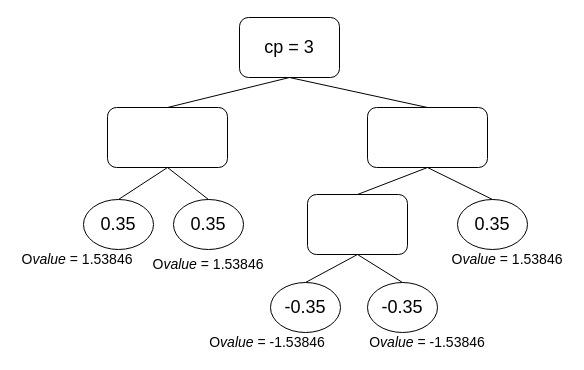
This 584x370 diagram has some shape labels left out. The shapes that lost their labels are listed below. From the top down, each one's centre as x and y in pixels, then its label:
the point at 167,137: thalac < 170
the point at 427,137: thalac < 188
the point at 357,224: cp = 0
